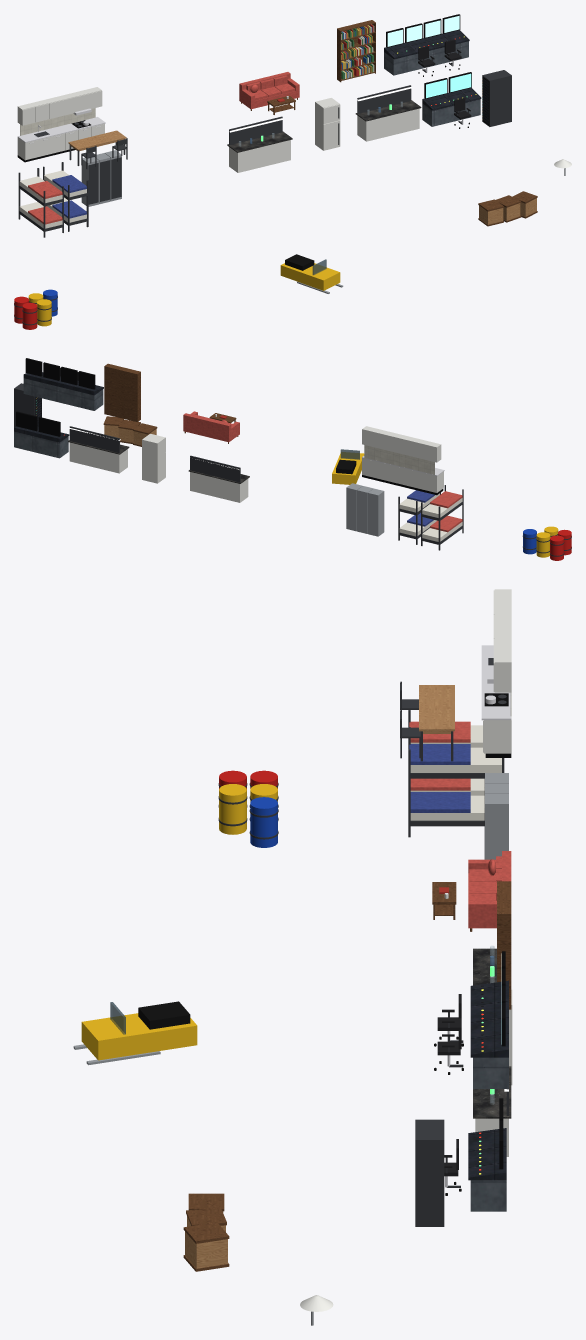
Rendered from i_station_arctic.gltf.
3 views of the same model, one above another, from view 1: azimuth 30°, elevation 25°; view 2: azimuth 150°, elevation 25°; view 3: azimuth 270°, elevation 25° (orthographic). The views are drawn at different scales.
Visible parts, largest first — view 1: I_station_arctic; view 2: I_station_arctic; view 3: I_station_arctic.
Boxes of the visible parts, x1,y1,x2,y2 form: I_station_arctic: (14,14,571,329); I_station_arctic: (14,358,571,560); I_station_arctic: (73,589,512,1325).
Size of the model in its own units: 25.72 by 6.51 by 9.14.
Materials: 38 (9 with a texture image).
